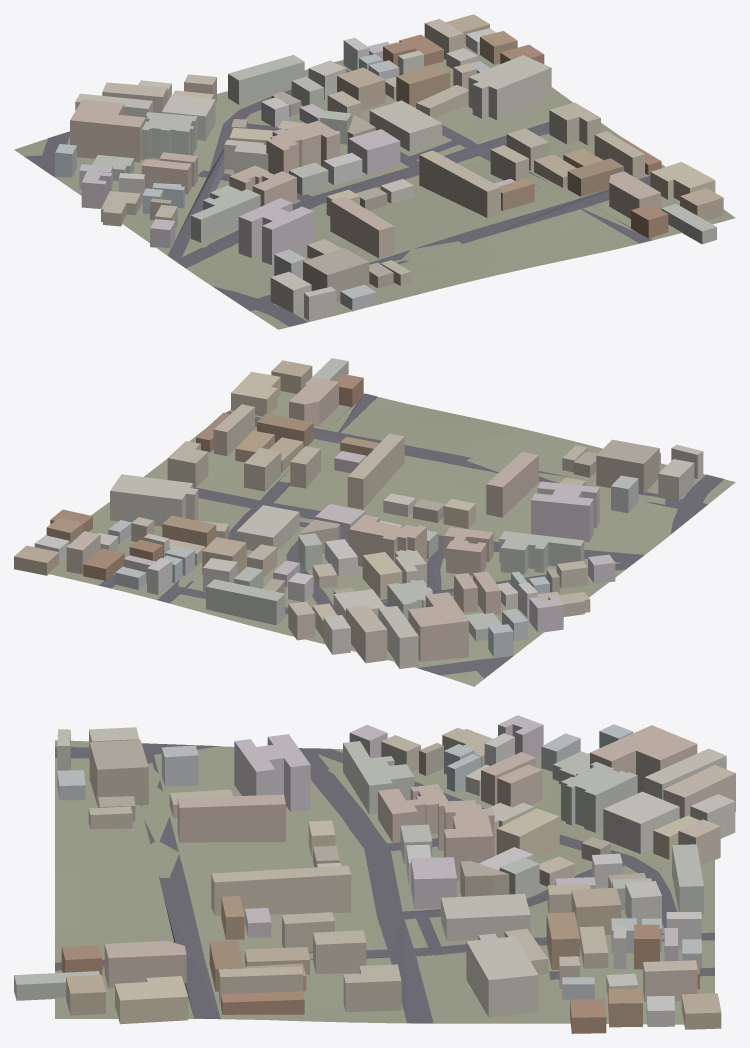
The model's file is chunk_4_6.glb.
The picture shows the model from 3 angles, top to bottom: view 1: azimuth 30°, elevation 25°; view 2: azimuth 150°, elevation 25°; view 3: azimuth 270°, elevation 25°; orthographic projection. The views are drawn at different scales.
Visible parts, largest first — view 1: geometry_93, geometry_34, geometry_43, geometry_3, geometry_23, geometry_91, geometry_101, geometry_22, geometry_33, geometry_0, geometry_42, geometry_95 (+55 smaller); view 2: geometry_93, geometry_34, geometry_3, geometry_43, geometry_0, geometry_33, geometry_6, geometry_91, geometry_23, geometry_22, geometry_1, geometry_42 (+61 smaller); view 3: geometry_93, geometry_101, geometry_23, geometry_22, geometry_34, geometry_3, geometry_95, geometry_42, geometry_92, geometry_43, geometry_6, geometry_91 (+69 smaller).
Boxes of the visible parts, x1=… form: geometry_93: x1=14, y1=43, x2=735, y2=329; geometry_34: x1=468, y1=55, x2=551, y2=120; geometry_43: x1=70, y1=99, x2=145, y2=162; geometry_3: x1=238, y1=198, x2=313, y2=264; geometry_23: x1=419, y1=150, x2=500, y2=218; geometry_91: x1=266, y1=120, x2=340, y2=174; geometry_101: x1=178, y1=122, x2=549, y2=268; geometry_22: x1=330, y1=196, x2=394, y2=258; geometry_33: x1=228, y1=55, x2=304, y2=104; geometry_0: x1=191, y1=185, x2=260, y2=242; geometry_42: x1=369, y1=100, x2=442, y2=151; geometry_95: x1=240, y1=176, x2=650, y2=311; geometry_93: x1=48, y1=391, x2=735, y2=686; geometry_34: x1=110, y1=474, x2=198, y2=526; geometry_3: x1=531, y1=481, x2=599, y2=542; geometry_43: x1=408, y1=592, x2=468, y2=661; geometry_0: x1=499, y1=531, x2=584, y2=574; geometry_33: x1=206, y1=579, x2=285, y2=625; geometry_6: x1=596, y1=439, x2=659, y2=494; geometry_91: x1=349, y1=515, x2=426, y2=566; geometry_23: x1=347, y1=433, x2=404, y2=509; geometry_22: x1=486, y1=452, x2=538, y2=517; geometry_1: x1=444, y1=527, x2=493, y2=575; geometry_42: x1=236, y1=505, x2=299, y2=550; geometry_93: x1=55, y1=740, x2=714, y2=1024; geometry_101: x1=299, y1=748, x2=433, y2=1023; geometry_23: x1=211, y1=865, x2=351, y2=915; geometry_22: x1=177, y1=794, x2=285, y2=842; geometry_34: x1=466, y1=933, x2=538, y2=1017; geometry_3: x1=234, y1=734, x2=310, y2=811; geometry_95: x1=140, y1=743, x2=220, y2=1018; geometry_42: x1=441, y1=893, x2=530, y2=941; geometry_92: x1=561, y1=761, x2=637, y2=832; geometry_43: x1=590, y1=725, x2=697, y2=793; geometry_6: x1=89, y1=740, x2=148, y2=806; geometry_91: x1=438, y1=800, x2=494, y2=880.
Size of the model in its own units: 266 by 23.33 by 274.
